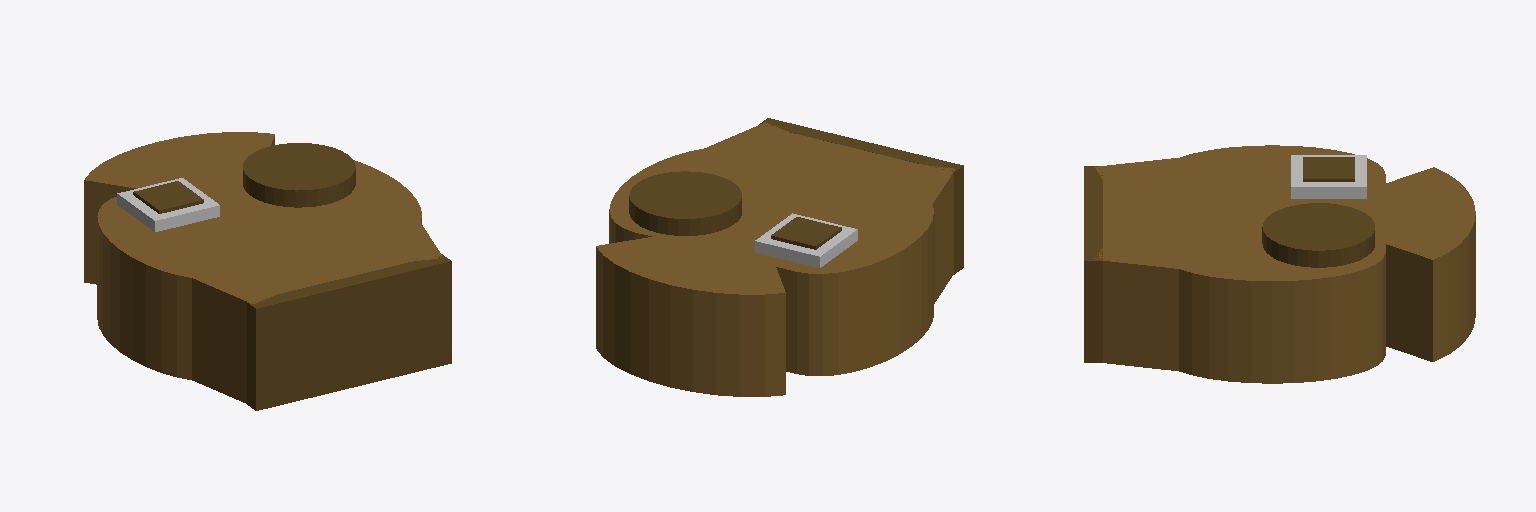
3 renders of one model, left to right at view 1: azimuth 30°, elevation 25°; view 2: azimuth 150°, elevation 25°; view 3: azimuth 270°, elevation 25°, orthographic.
Visible parts, largest first — view 1: 円柱.013_円柱.014; view 2: 円柱.013_円柱.014; view 3: 円柱.013_円柱.014.
Part boxes in pixels (x1,y1,x2,y2): 円柱.013_円柱.014: (84,132,451,410); 円柱.013_円柱.014: (596,118,963,396); 円柱.013_円柱.014: (1084,145,1475,383).
Bounding box in the file's own units: 3.42 × 1.4 × 4.16.
3 materials, 2 textured.